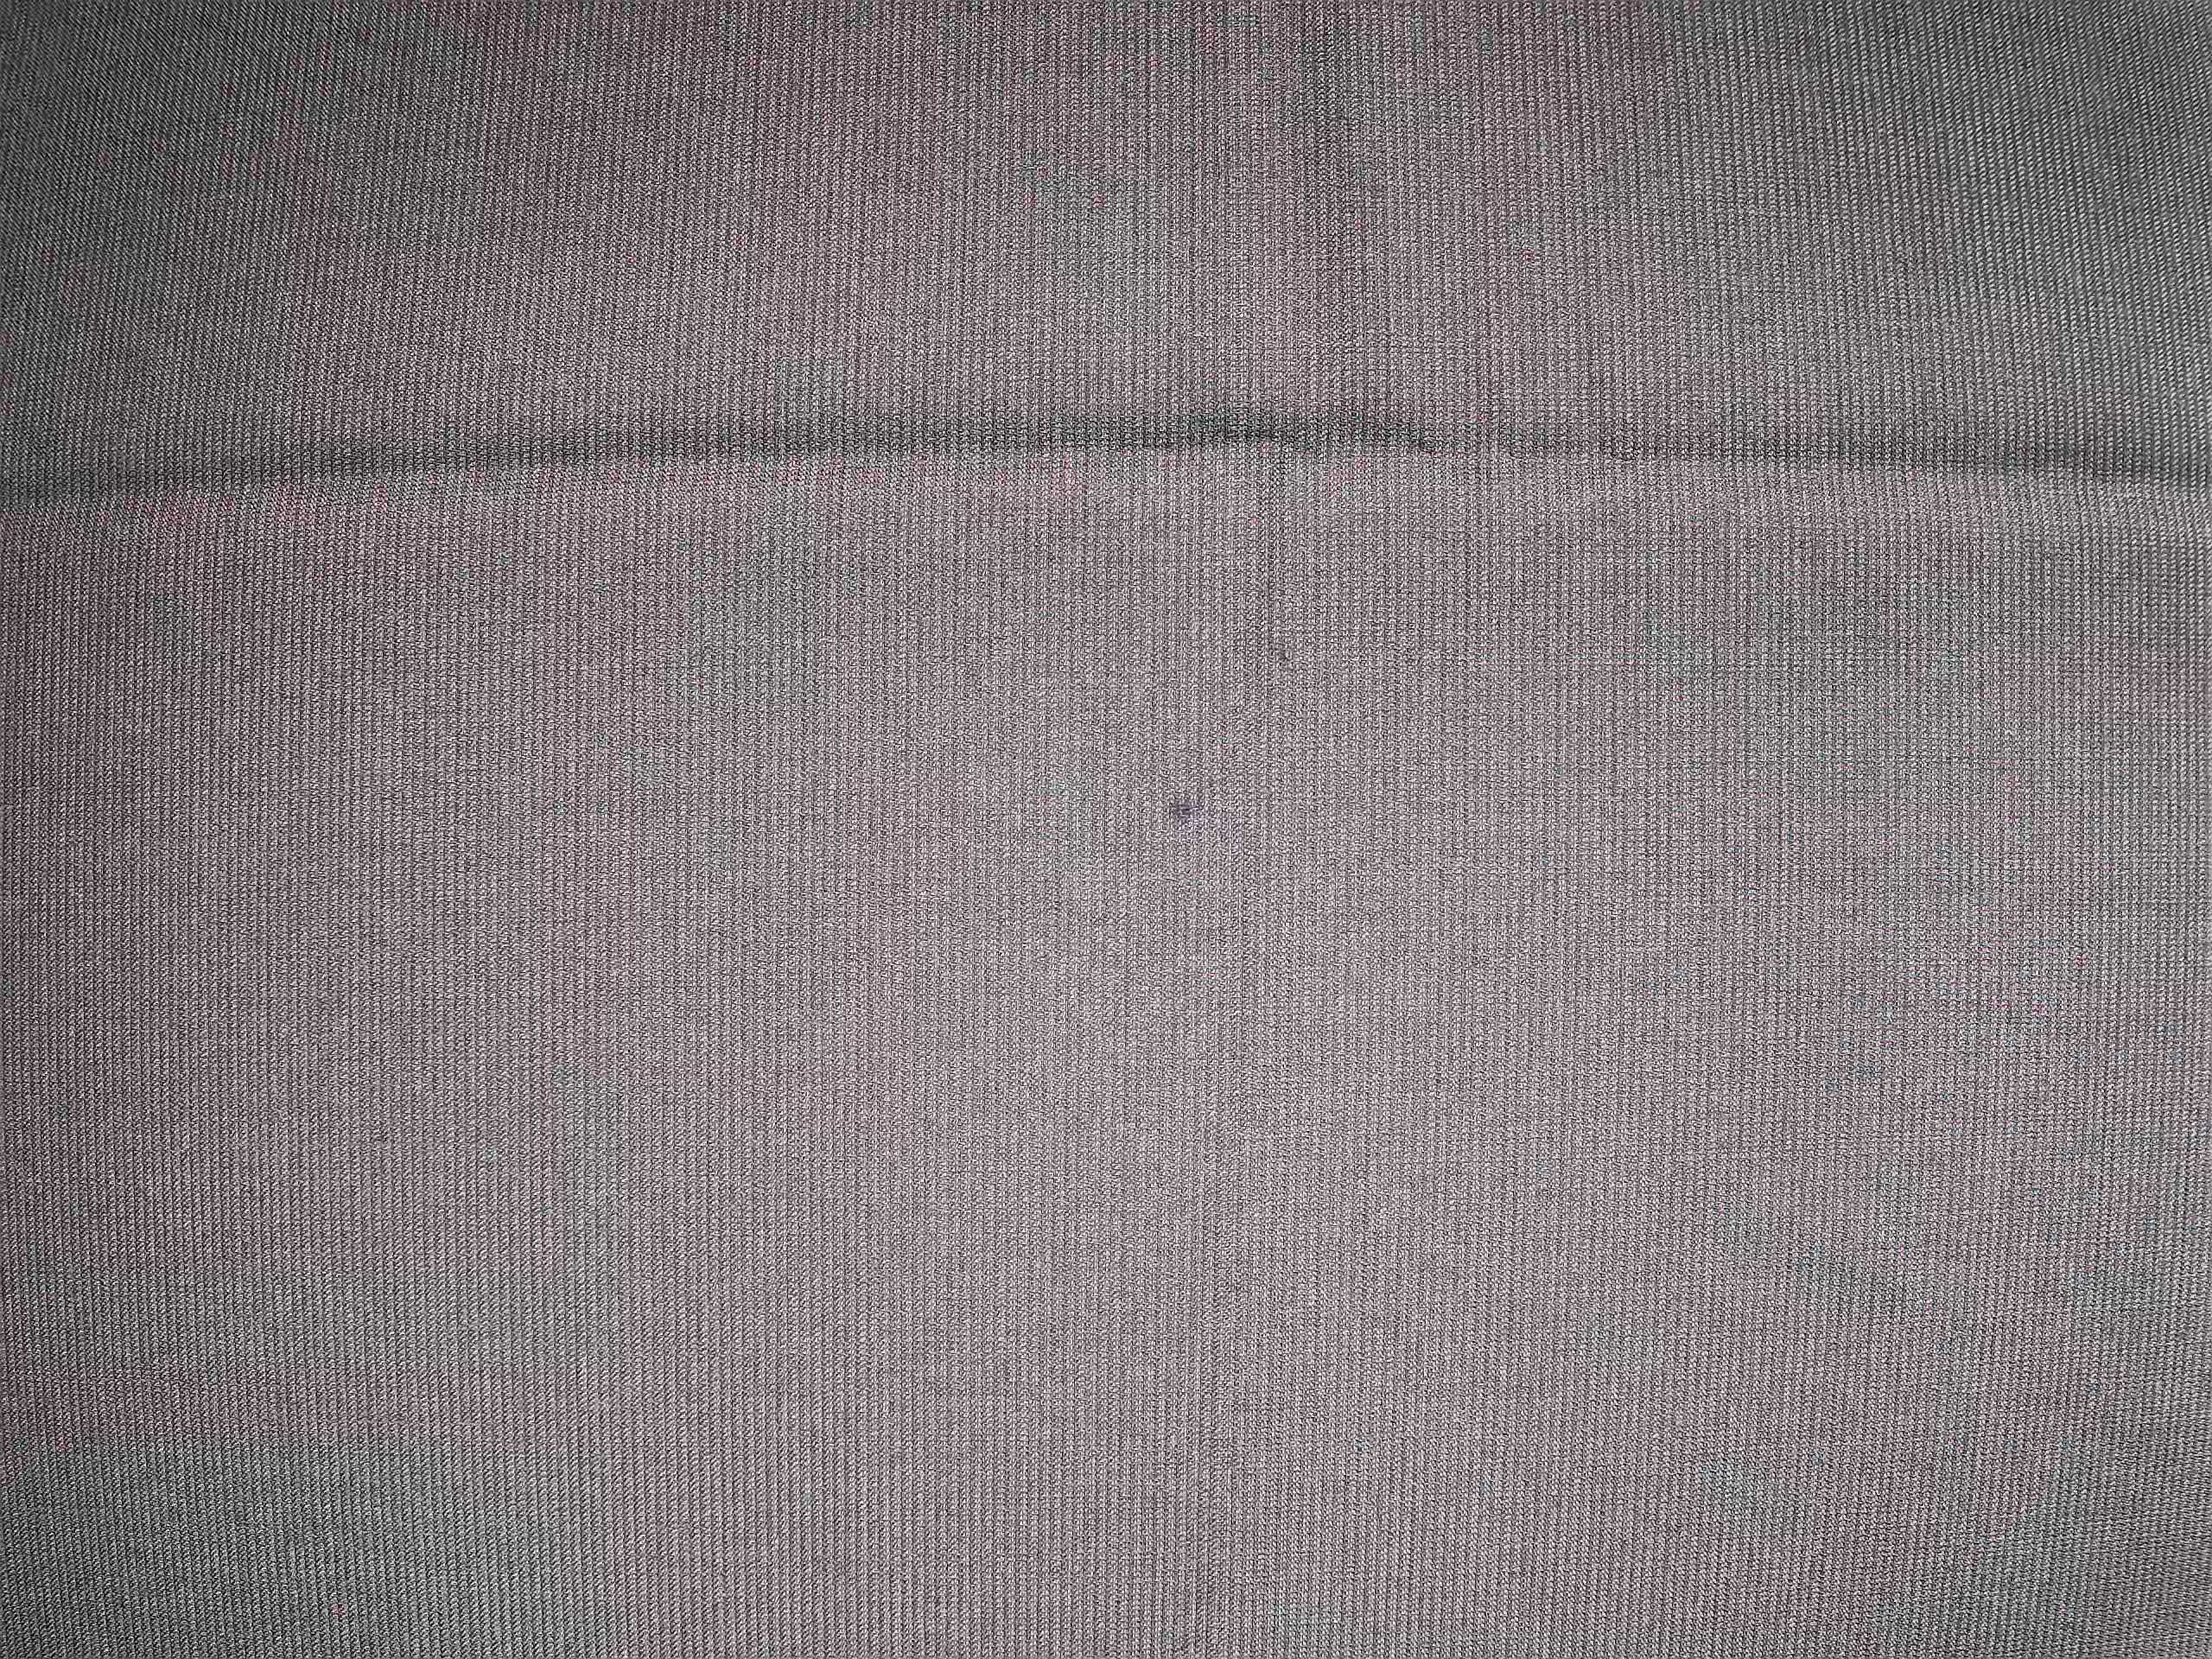jumps: (1153, 767, 1226, 854), (1251, 620, 1312, 694)
